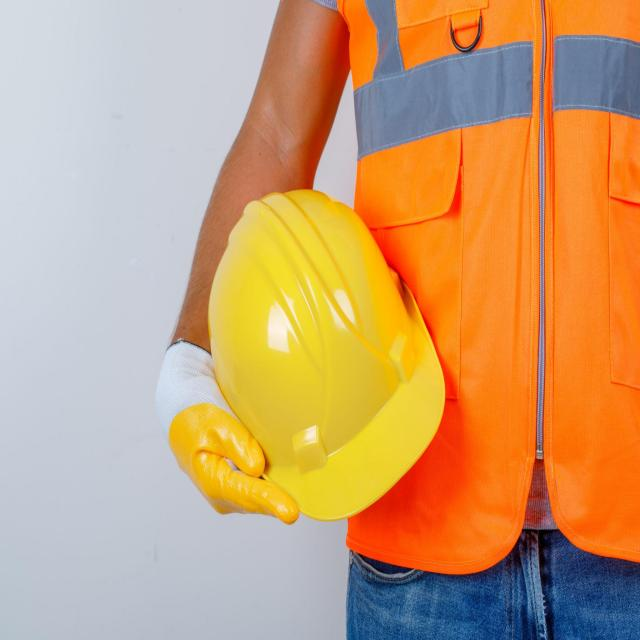Reflective-Jacket: (311, 0, 640, 573)
Safety-Helmet: (203, 187, 447, 526)
